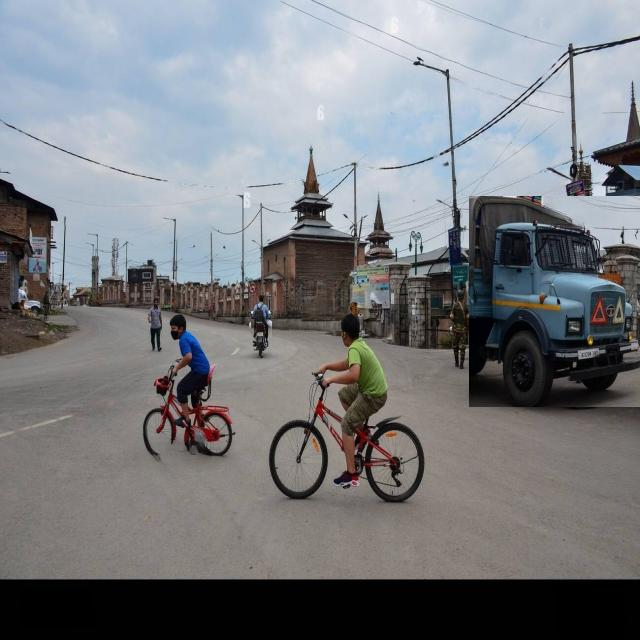bicycle: (269, 314, 424, 502), (144, 314, 234, 457)
motorcycle: (251, 295, 271, 356)
truck: (469, 196, 640, 407)
